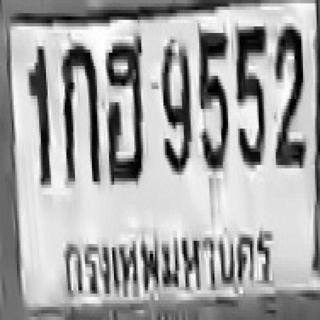A01: (60, 40, 100, 181)
A44: (103, 35, 142, 180)
N01: (27, 43, 48, 185)
N02: (273, 25, 304, 163)
N05: (235, 23, 264, 165), (198, 30, 226, 168)
N09: (160, 36, 191, 172)
P04: (58, 213, 282, 301)
